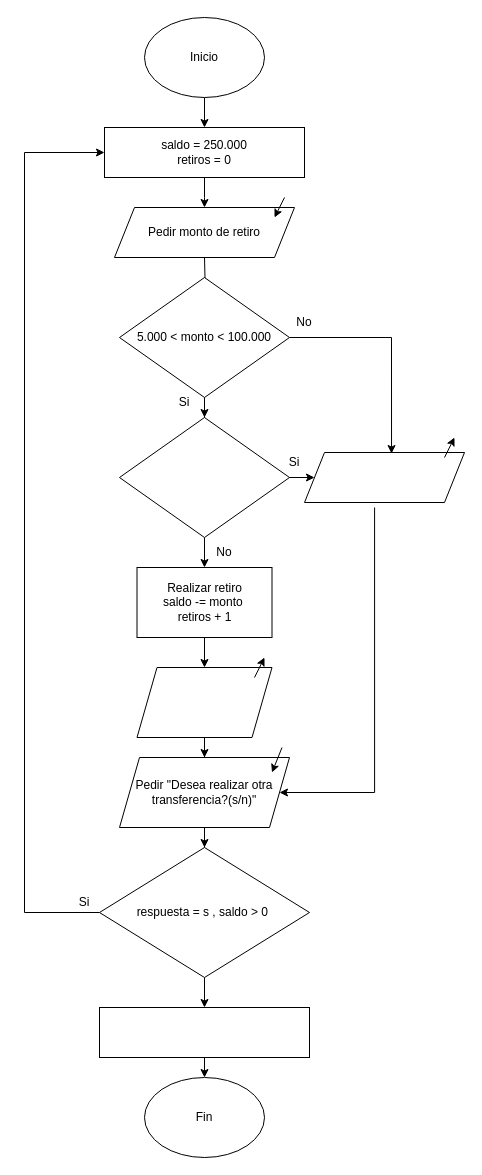
Image size: 482x1175. Some labels were removed from this diagram. The shapes that lost their labels are listed below. From the top down, each one's centre as x and y in pixels, then its label:
[204,477]: saldo < monto
[384,477]: Mostrar "retiro rechazado" y saldo
[204,702]: Mostrar "retiro exitoso"
[204,1032]: Mostrar saldo restante y retiros exitosos
